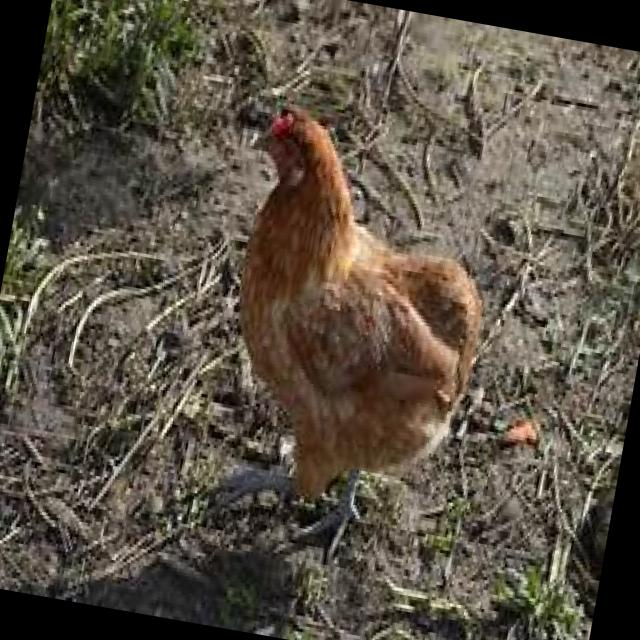animal: (184, 96, 514, 584)
